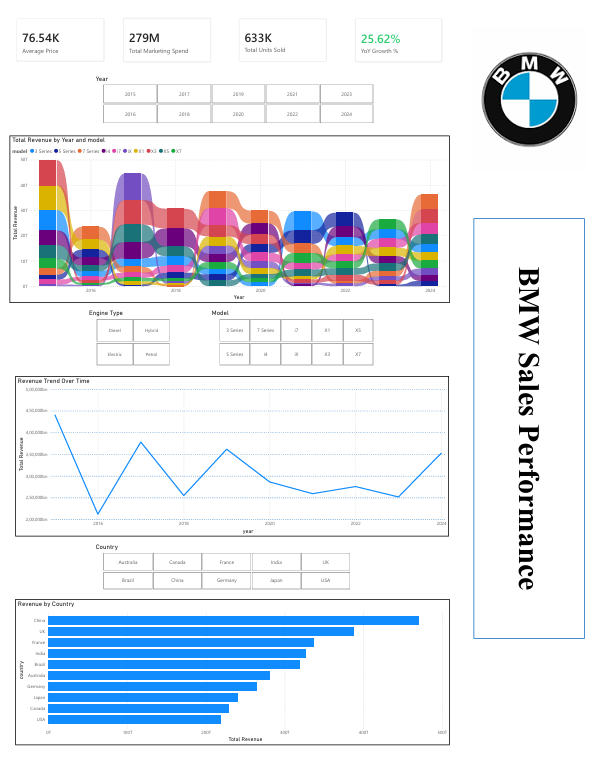

The dashboard page shown, as its layout file describes it:
{"tool":"powerbi","page":{"name":"Page 1","canvas":[1650,2000],"ordinal":0},"visuals":[{"type":"cardVisual","fields":{"Data":["bmw_global_sales_dataset.Total Marketing Spend"]},"box":[300.8,26.9,269.2,154.6],"z":0},{"type":"cardVisual","fields":{"Data":["bmw_global_sales_dataset.Total Units Sold"]},"box":[610,29,269,150],"z":1000},{"type":"lineChart","title":"Revenue Trend Over Time","fields":{"Y":["bmw_global_sales_dataset.Total Revenue"],"Category":["bmw_global_sales_dataset.year"]},"box":[30,1000,1157.5,427.5],"z":2000},{"type":"ribbonChart","fields":{"Y":["bmw_global_sales_dataset.Total Revenue"],"Category":["Calendar.Year"],"Series":["bmw_global_sales_dataset.model"]},"box":[15,357.5,1175,447.5],"z":3000},{"type":"clusteredBarChart","title":"Revenue by Country","fields":{"Category":["bmw_global_sales_dataset.country"],"Y":["bmw_global_sales_dataset.Total Revenue"]},"box":[30,1595,1160,390],"z":4000},{"type":"slicer","title":"Year","fields":{"Values":["bmw_global_sales_dataset.year"]},"box":[240,196,770,136],"z":5000},{"type":"slicer","title":"Country","fields":{"Values":["bmw_global_sales_dataset.country"]},"box":[240,1446,708,130],"z":6000},{"type":"slicer","title":"Engine Type","fields":{"Values":["bmw_global_sales_dataset.engine_type"]},"box":[222,822,244,156],"z":7000},{"type":"slicer","title":"Model ","fields":{"Values":["bmw_global_sales_dataset.model"]},"box":[550,822,460,156],"z":8000},{"type":"cardVisual","fields":{"Data":["bmw_global_sales_dataset.YoY Growth %"]},"box":[920,28.6,268.6,152.9],"z":9000},{"type":"cardVisual","fields":{"Data":["bmw_global_sales_dataset.Average Price"]},"box":[15.6,28.9,270,150],"z":10000},{"type":"shape","box":[1255,580,295,1120],"z":11000},{"type":"image","box":[1246.7,70,311.7,385],"z":12000}]}

Visuals, with their boxes in screenshot pixels (x1, y1, x2, y2), scaled from the page's 1650x2000 canvas onto the 607x757 screenshot:
cardVisual - bmw_global_sales_dataset.Total Marketing Spend: (111, 10, 210, 69)
cardVisual - bmw_global_sales_dataset.Total Units Sold: (224, 11, 323, 68)
"Revenue Trend Over Time" lineChart: (11, 378, 437, 540)
ribbonChart - bmw_global_sales_dataset.Total Revenue x Calendar.Year: (6, 135, 438, 305)
"Revenue by Country" clusteredBarChart: (11, 604, 438, 751)
"Year" slicer: (88, 74, 372, 126)
"Country" slicer: (88, 547, 349, 597)
"Engine Type" slicer: (82, 311, 171, 370)
"Model " slicer: (202, 311, 372, 370)
cardVisual - bmw_global_sales_dataset.YoY Growth %: (338, 11, 437, 69)
cardVisual - bmw_global_sales_dataset.Average Price: (6, 11, 105, 68)
shape: (462, 220, 570, 643)
image: (459, 26, 573, 172)
